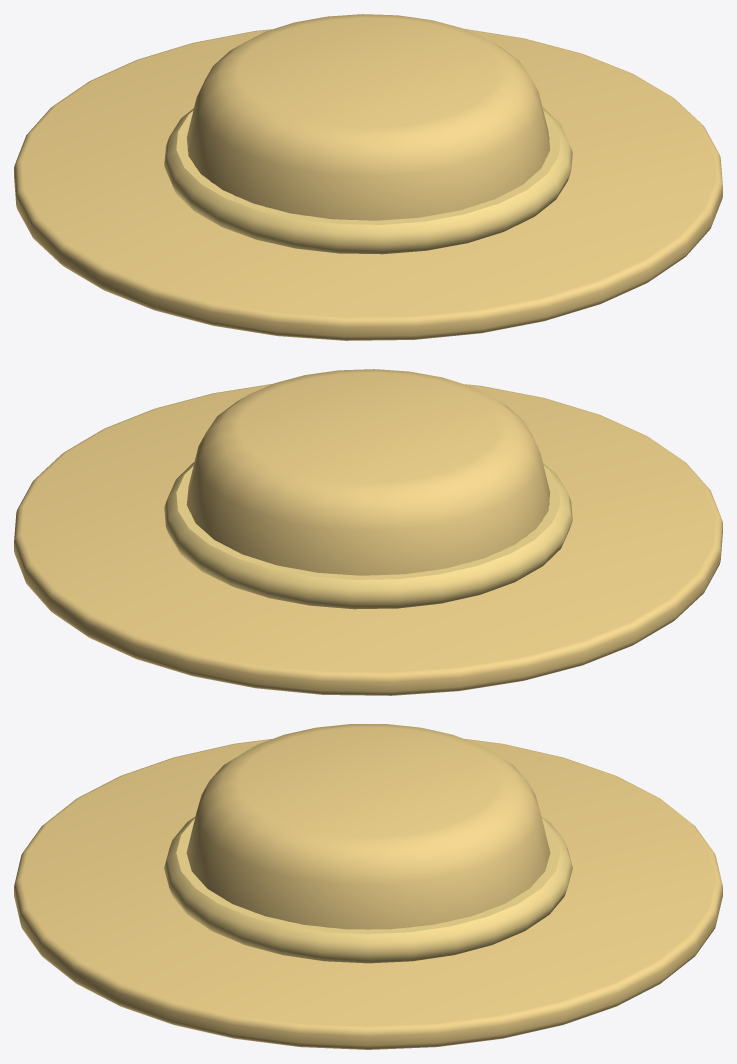
Rendered from Acc_Straw.fbx.
The picture shows the model from 3 angles, top to bottom: view 1: azimuth 30°, elevation 25°; view 2: azimuth 150°, elevation 25°; view 3: azimuth 270°, elevation 25°; orthographic projection.
Visible parts, largest first — view 1: Straw_Brim, Straw_Crown, Straw_Band; view 2: Straw_Brim, Straw_Crown, Straw_Band; view 3: Straw_Brim, Straw_Crown, Straw_Band.
Part boxes in pixels (left/top/right/bottom): Straw_Brim: left=14, top=29, right=722, bottom=340; Straw_Crown: left=186, top=14, right=550, bottom=220; Straw_Band: left=164, top=107, right=572, bottom=254; Straw_Brim: left=14, top=384, right=722, bottom=695; Straw_Crown: left=186, top=369, right=550, bottom=575; Straw_Band: left=164, top=462, right=572, bottom=609; Straw_Brim: left=14, top=739, right=722, bottom=1049; Straw_Crown: left=186, top=724, right=550, bottom=929; Straw_Band: left=164, top=816, right=572, bottom=963.
Bounding box in the file's own units: 112 × 21 × 112.
